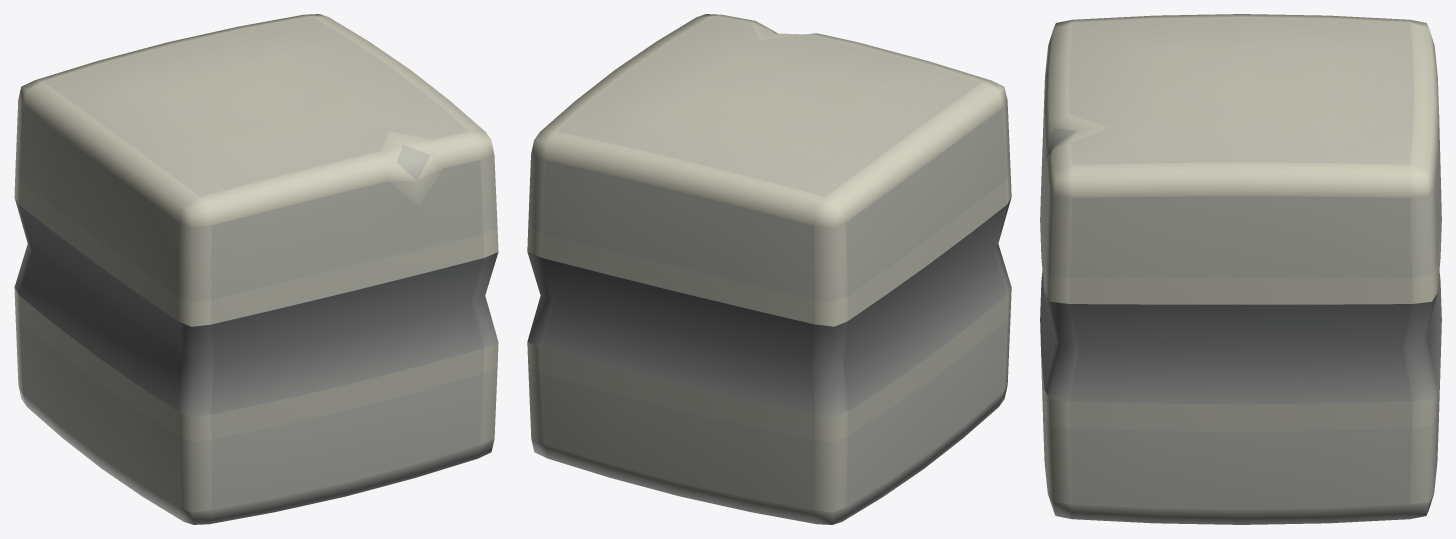
The model's file is block_stone_divider1_LOD_setup.fbx.
The picture shows the model from 3 angles, left to right: view 1: azimuth 30°, elevation 25°; view 2: azimuth 150°, elevation 25°; view 3: azimuth 270°, elevation 25°; orthographic projection. The views are drawn at different scales.
Parts seen in each view (by area): view 1: block_stone_divider1_LOD0; view 2: block_stone_divider1_LOD0; view 3: block_stone_divider1_LOD0.
Part boxes in pixels (x1,y1,x2,y2): block_stone_divider1_LOD0: [14, 14, 498, 524]; block_stone_divider1_LOD0: [527, 14, 1011, 524]; block_stone_divider1_LOD0: [1040, 14, 1441, 524].
Size of what is drawn, in the model's own units: 108 by 109 by 108.
